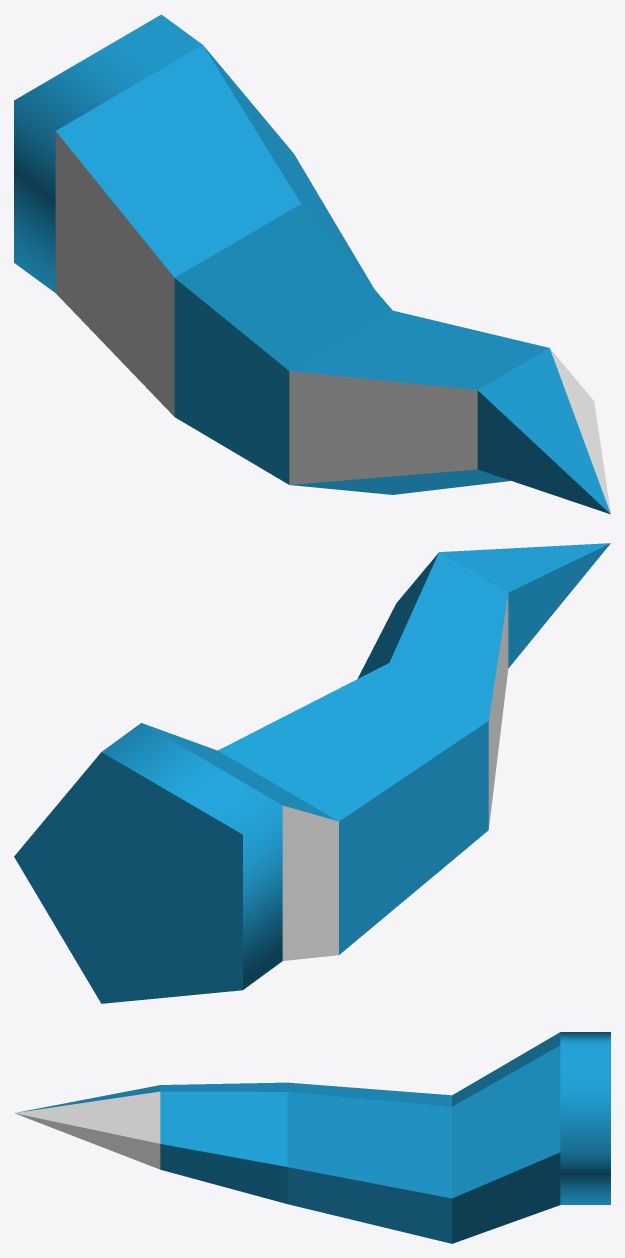
The picture shows the model from 3 angles, top to bottom: view 1: azimuth 30°, elevation 25°; view 2: azimuth 150°, elevation 25°; view 3: azimuth 270°, elevation 25°; orthographic projection. The views are drawn at different scales.
Visible parts, largest first — view 1: forest15_2; view 2: forest15_2; view 3: forest15_2.
Boxes of the visible parts, left/top/right/bottom form: forest15_2: left=14, top=14, right=610, bottom=514; forest15_2: left=14, top=543, right=610, bottom=1003; forest15_2: left=14, top=1032, right=610, bottom=1243.
Bounding box in the file's own units: 81.98 × 292 × 106.
